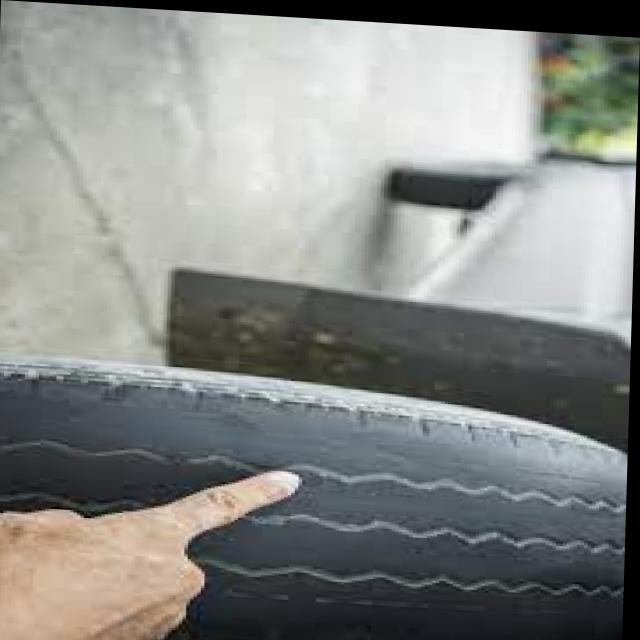Flat spots: (316, 457, 622, 639), (11, 368, 176, 492)
